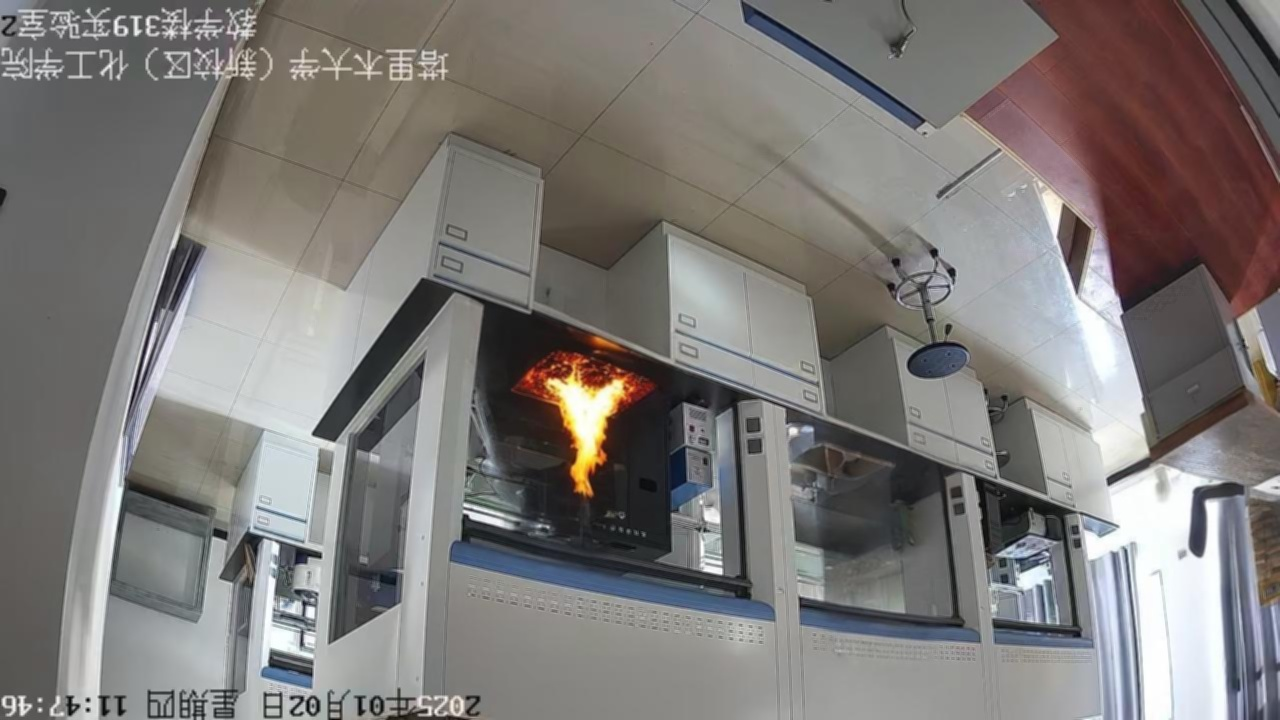fire: (527, 355, 648, 527)
